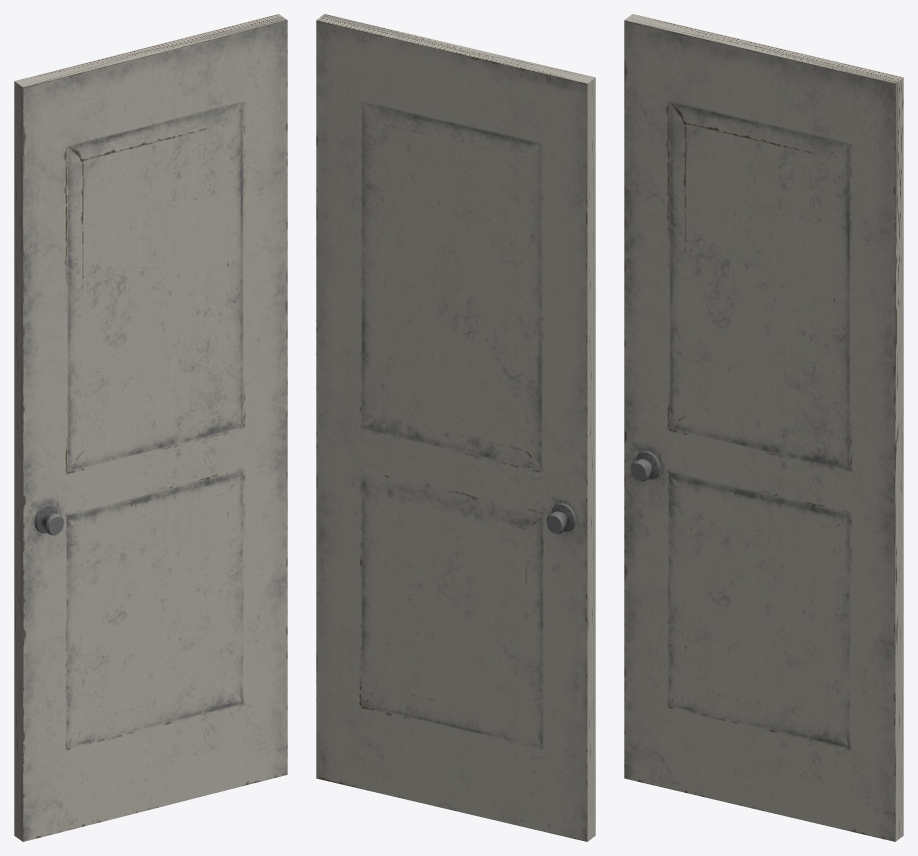
File: hall1Gate2.glb
3 renders of one model, left to right at view 1: azimuth 30°, elevation 25°; view 2: azimuth 150°, elevation 25°; view 3: azimuth 330°, elevation 25°, orthographic.
Parts seen in each view (by area): view 1: Door_low.002_Door_0.001; view 2: Door_low.002_Door_0.001; view 3: Door_low.002_Door_0.001.
Boxes of the visible parts, x1=… form: Door_low.002_Door_0.001: x1=14, y1=14, x2=287, y2=841; Door_low.002_Door_0.001: x1=316, y1=14, x2=595, y2=841; Door_low.002_Door_0.001: x1=624, y1=14, x2=903, y2=841.
Bounding box in the file's own units: 0.6482 × 1.75 × 0.1179.
1 material, 1 textured.
